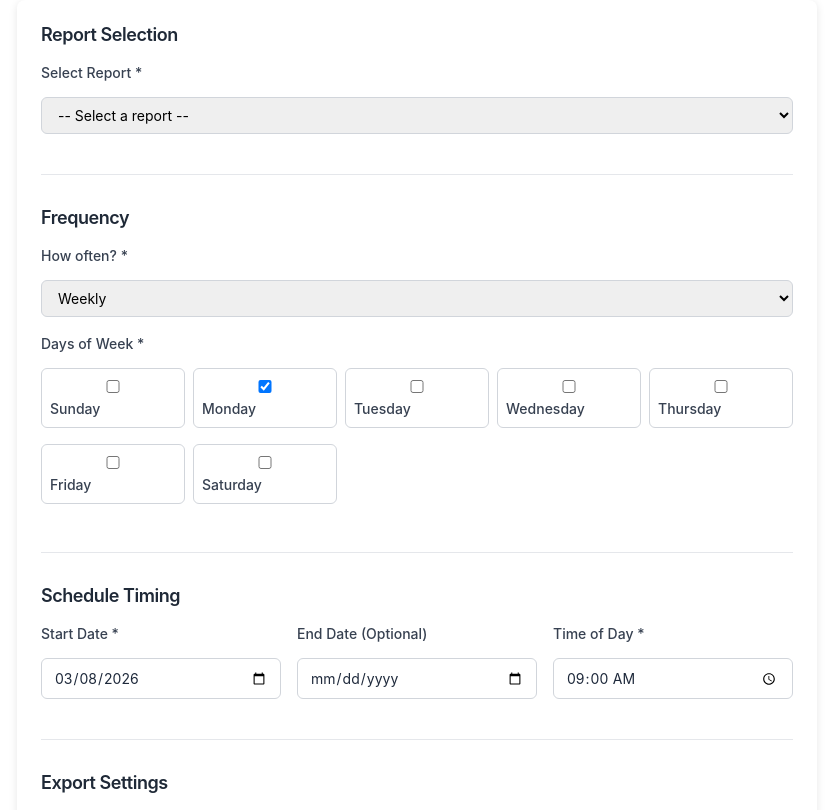
Test: ScheduleForm › should show cron expression input when custom frequency is selected
The image size is (835, 810).
Select "Custom (Advanced)" in the dropdown labelled "How often? *" at (417, 298), box [41,280,793,317]
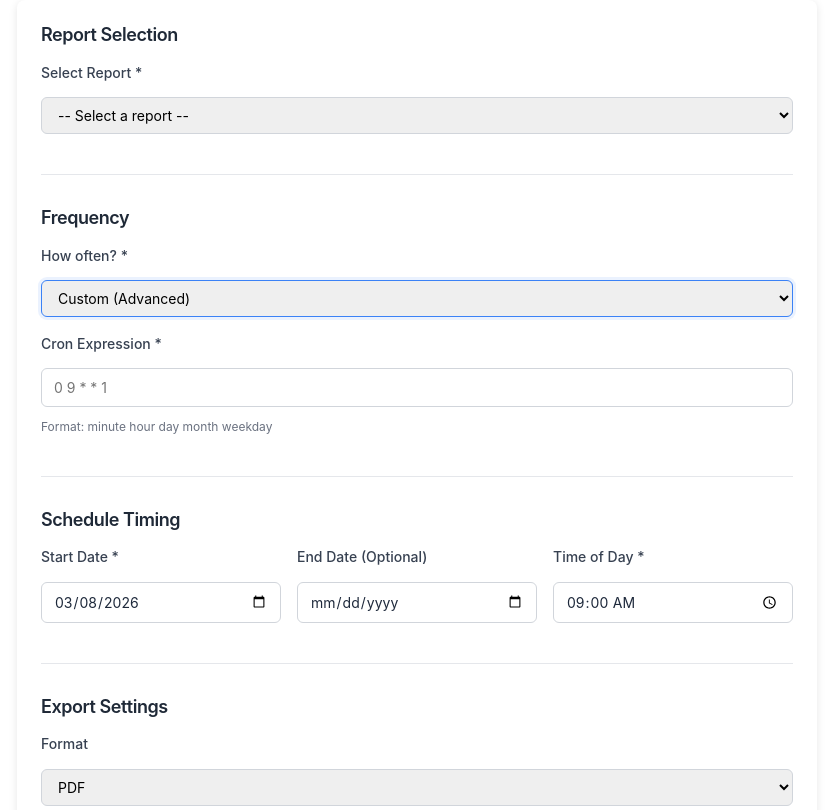
Expected: the field labelled "Cron Expression *" is shown, [41,368,793,407]
